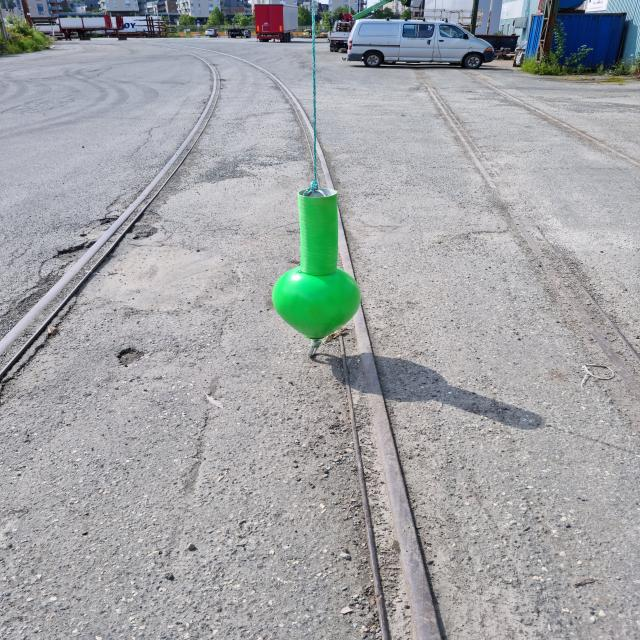green: (272, 188, 361, 338)
